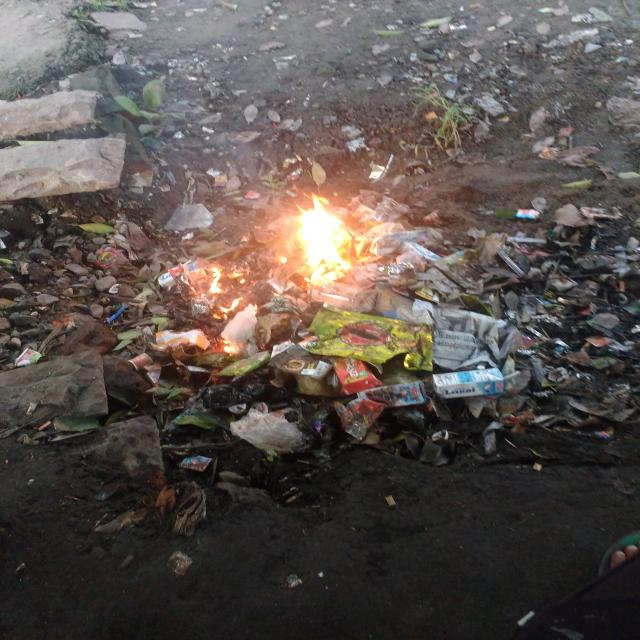firerotation: (273, 186, 372, 287), (207, 265, 225, 296), (217, 336, 236, 356)
